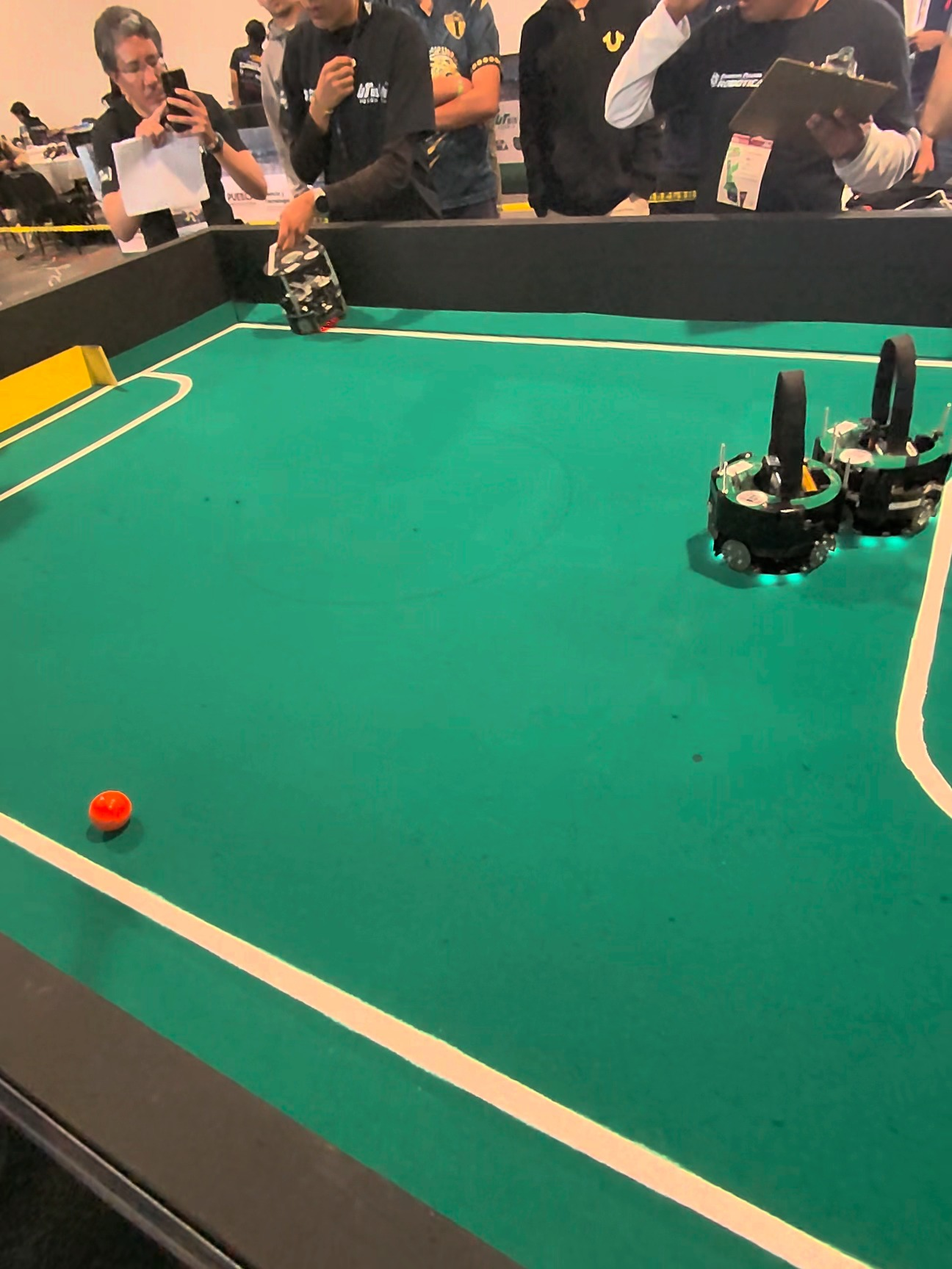Robot: (692, 361, 833, 603), (815, 329, 942, 552), (271, 230, 354, 342)
pelota: (90, 788, 135, 835)
